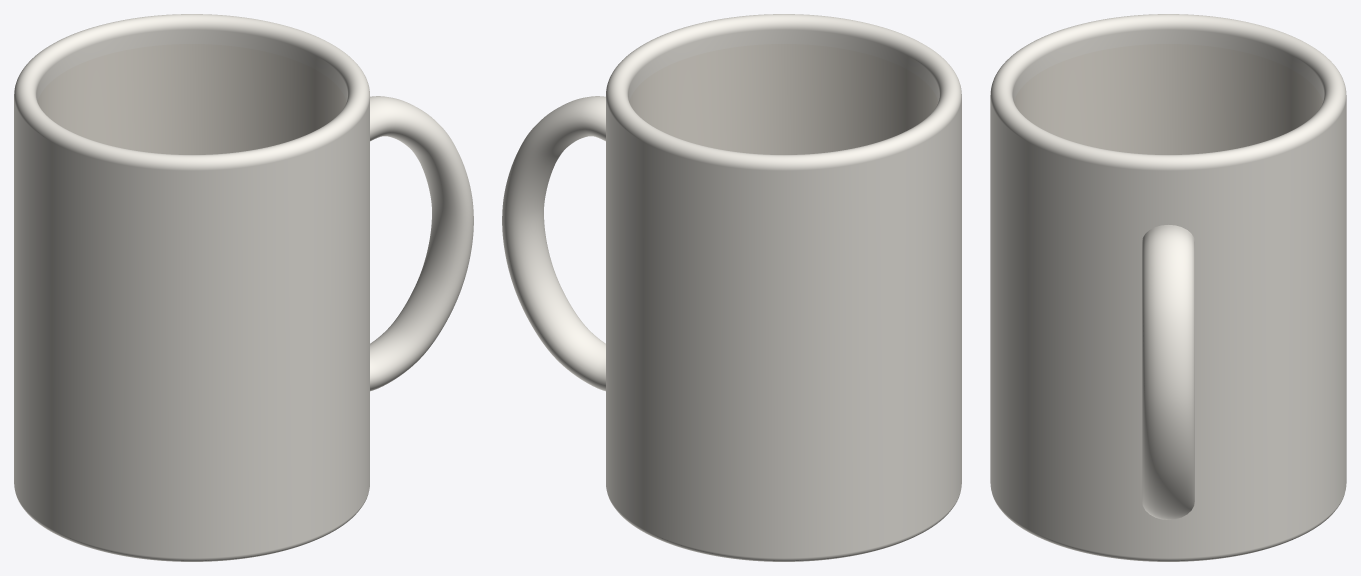
File: mug.glb
3 views of the same model, side by side, from view 1: azimuth 30°, elevation 25°; view 2: azimuth 150°, elevation 25°; view 3: azimuth 270°, elevation 25° (orthographic).
Bounding box in the file's own units: 2.24 × 2 × 1.6.
Materials: 3 (1 with a texture image).
